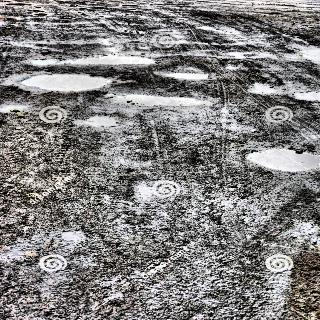pothole: (247, 142, 320, 173), (109, 90, 206, 112), (18, 72, 113, 94), (28, 55, 161, 68), (0, 0, 49, 23), (287, 85, 320, 105), (79, 113, 120, 129), (246, 80, 281, 97), (221, 50, 280, 60), (160, 70, 213, 81), (0, 102, 30, 114), (301, 47, 320, 65), (120, 3, 140, 8), (94, 2, 109, 5), (108, 1, 123, 3)
